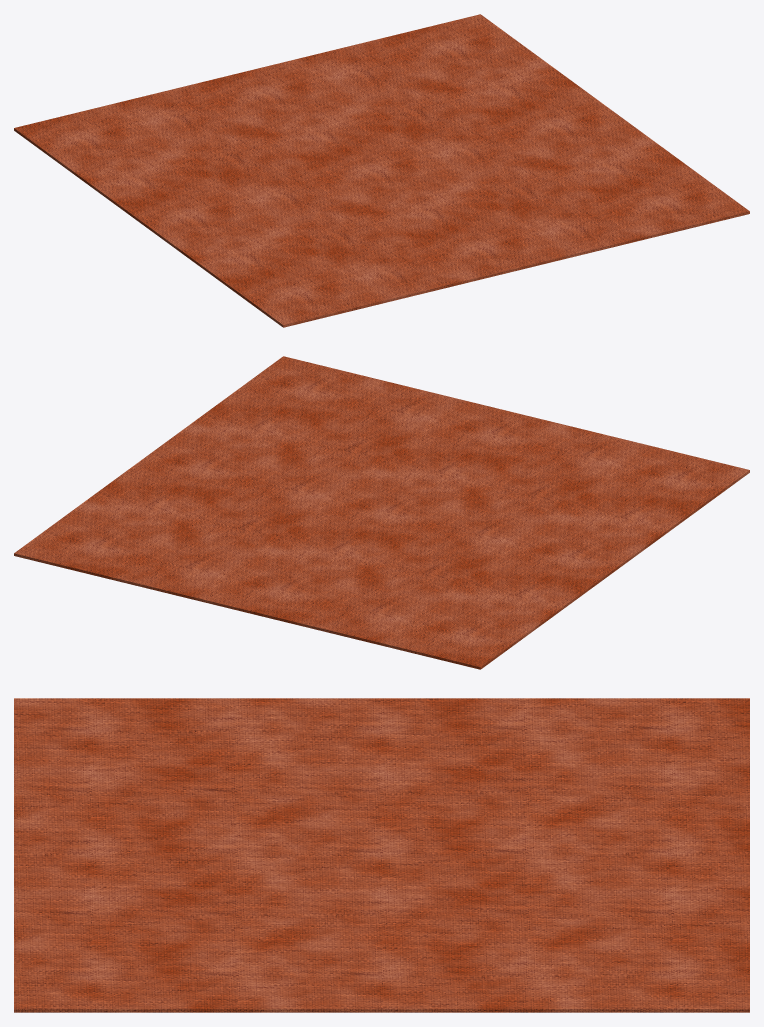
File: Carpets_01.fbx
3 views of the same model, one above another, from view 1: azimuth 30°, elevation 25°; view 2: azimuth 150°, elevation 25°; view 3: azimuth 270°, elevation 25° (orthographic). The views are drawn at different scales.
Parts seen in each view (by area): view 1: Tapis; view 2: Tapis; view 3: Tapis.
Boxes of the visible parts, x1,y1,x2,y2 form: Tapis: [14, 14, 749, 327]; Tapis: [14, 356, 749, 669]; Tapis: [14, 698, 749, 1012].
Size of the model in its own units: 203 by 1.07 by 203.
